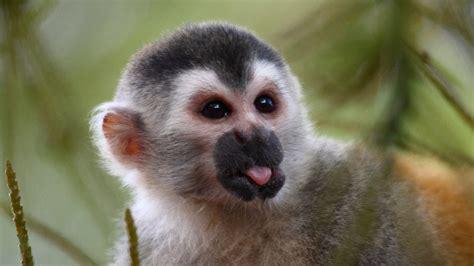monkey: (95, 25, 462, 266)
